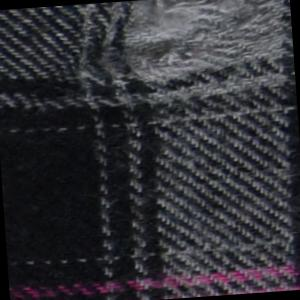Damage: (45, 1, 285, 123)
